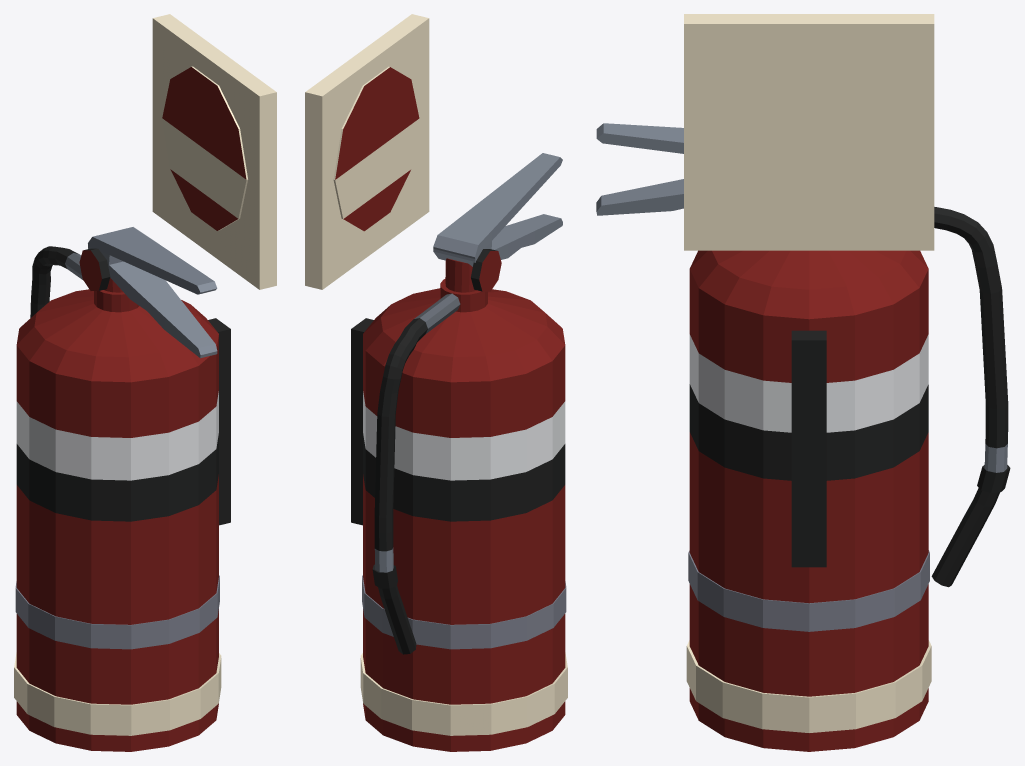
The model's file is Extinguisher.glb.
The picture shows the model from 3 angles, left to right: view 1: azimuth 30°, elevation 25°; view 2: azimuth 150°, elevation 25°; view 3: azimuth 270°, elevation 25°; orthographic projection. The views are drawn at different scales.
Visible parts, largest first — view 1: Extinguisher; view 2: Extinguisher; view 3: Extinguisher.
Part boxes in pixels (x1,y1,x2,y2): Extinguisher: [14, 14, 276, 751]; Extinguisher: [305, 14, 567, 751]; Extinguisher: [596, 14, 1010, 751].
Size of the model in its own units: 0.1745 by 0.5358 by 0.2724.
1 material, 1 textured.
